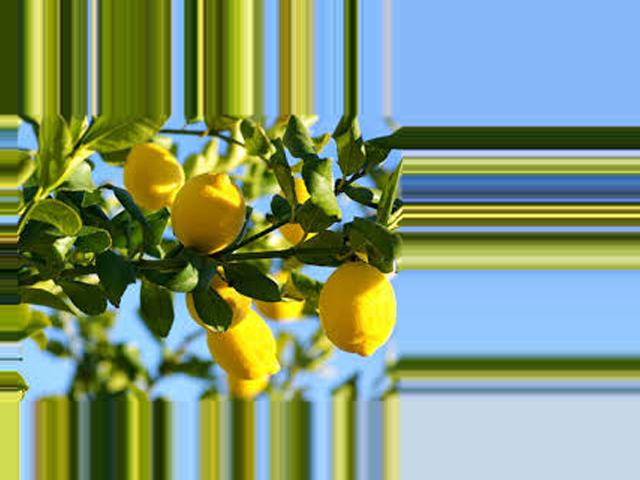lemon: (310, 251, 398, 366)
